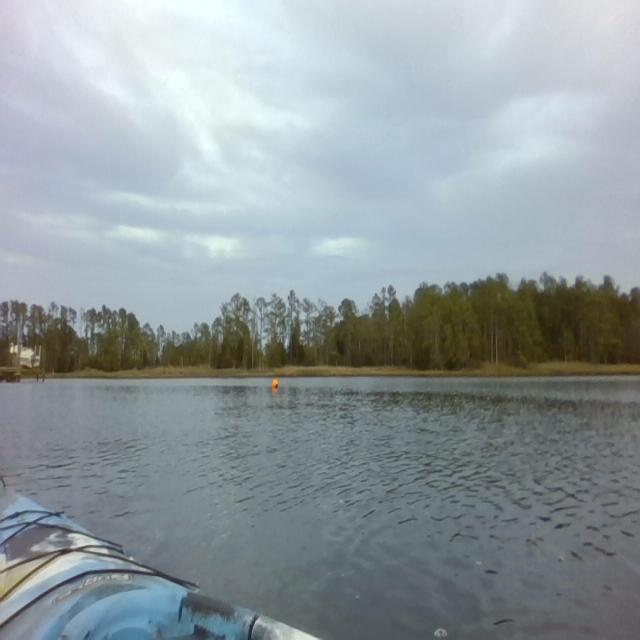Buoy: (271, 376, 279, 391)
